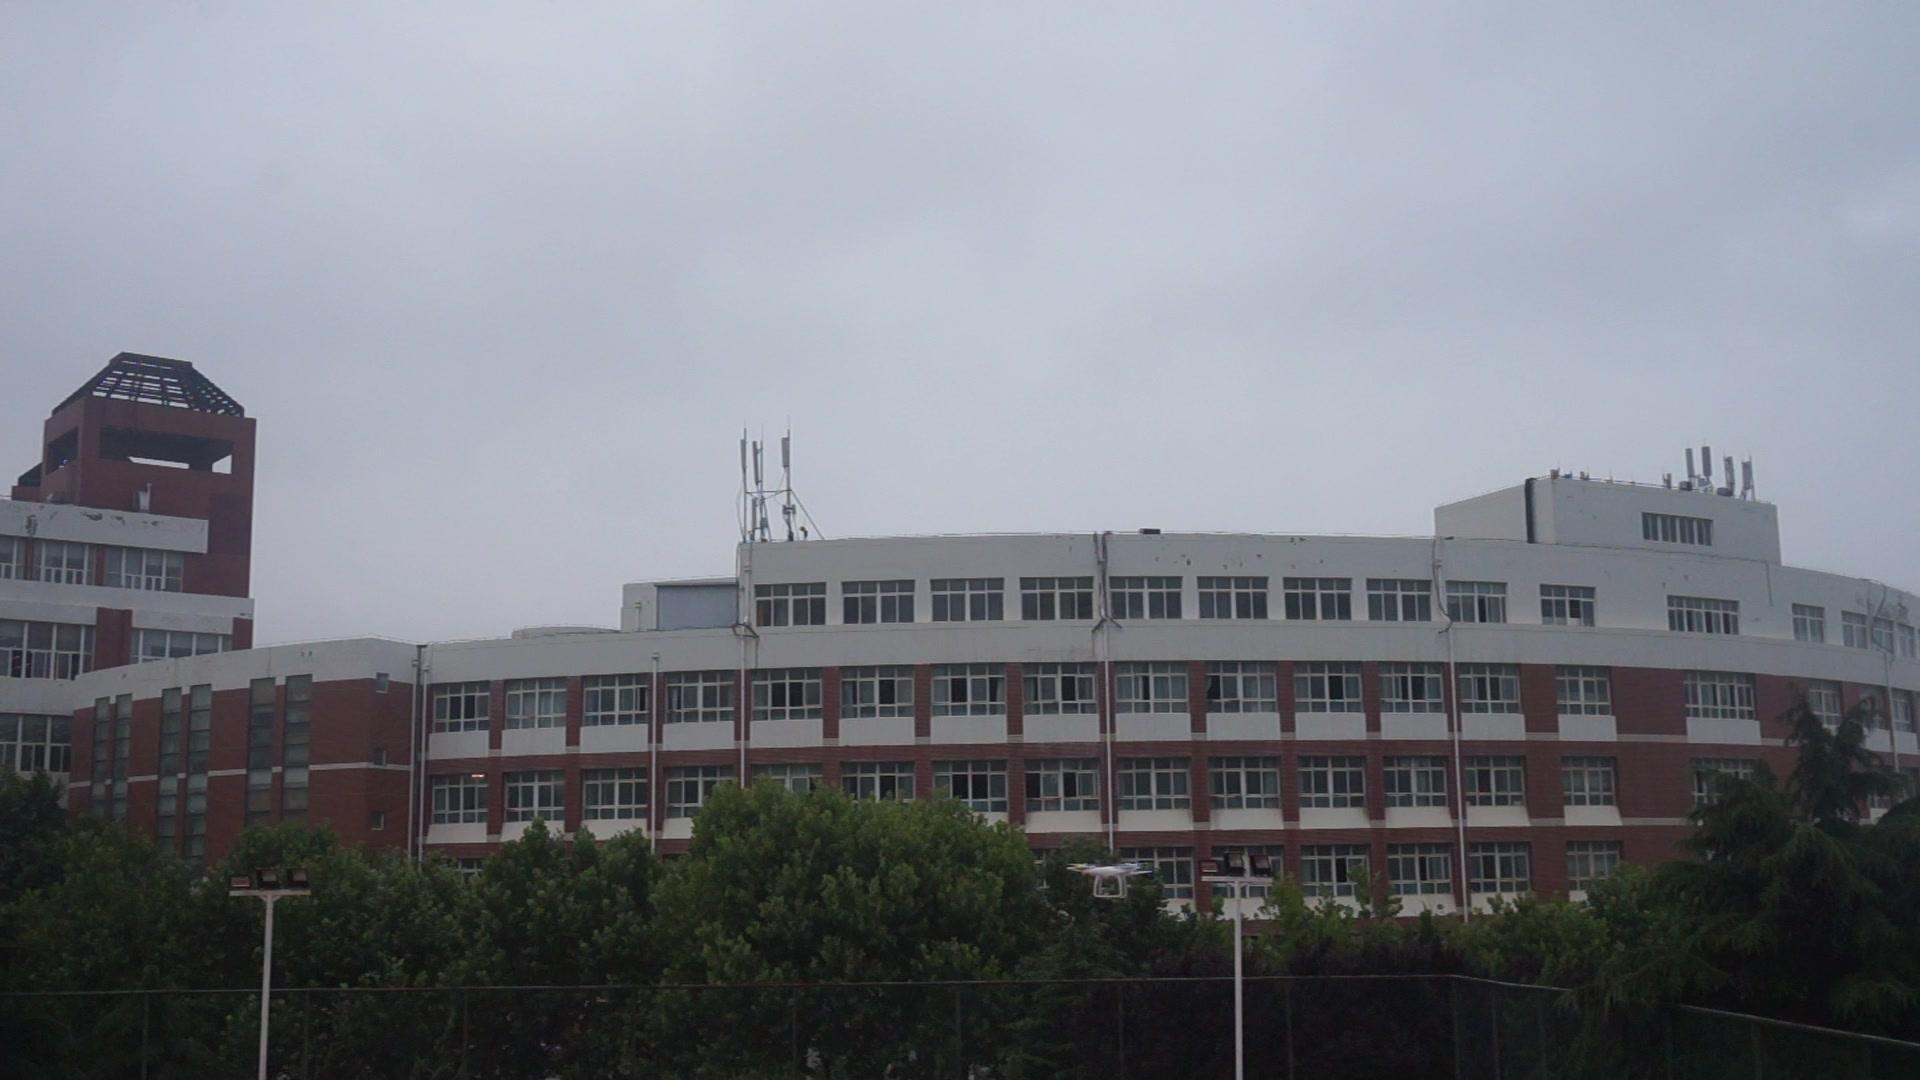UAV: (1065, 862, 1153, 899)
